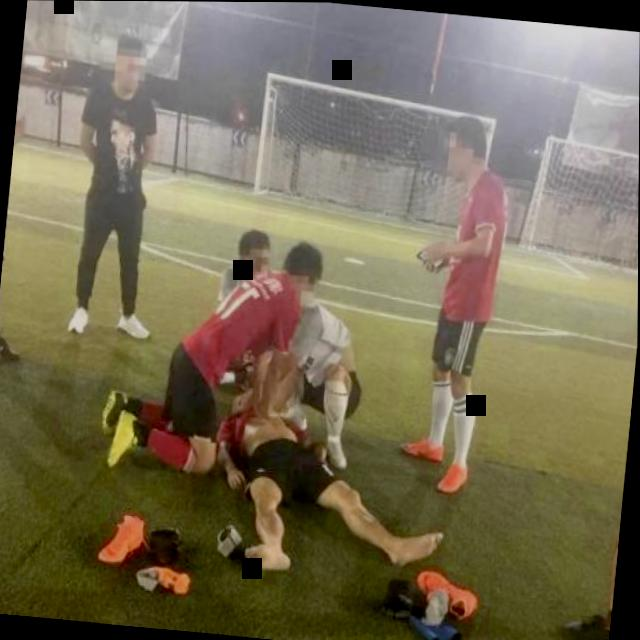Fall-Detected: (204, 375, 464, 593)
